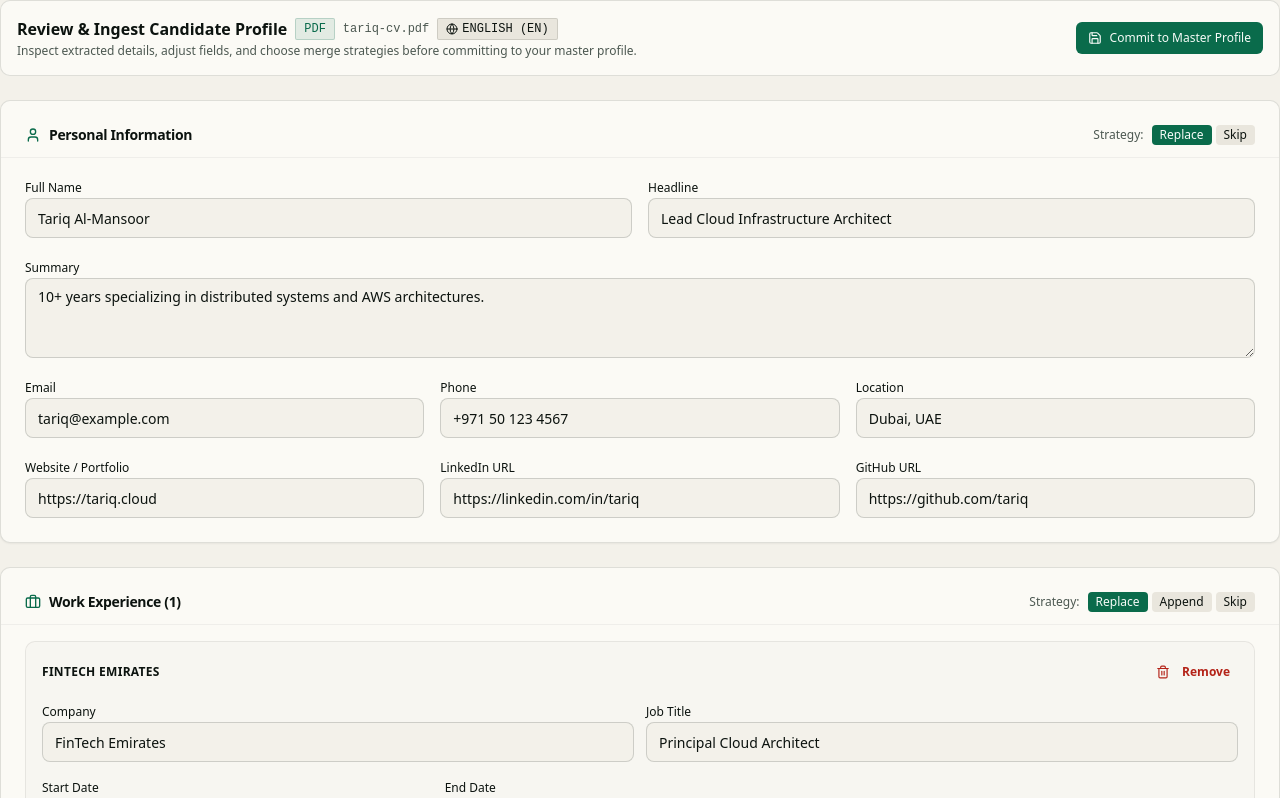
Test case: Resume Review Workbench (AC-4, AC-5) › submits commit action with chosen mergeConfig and updated payload (AC-4, AC-5)
The width and height of the screenshot is (1280, 798).
// Trigger commit
Click the button with test id "commit-profile-button": (1169, 38) [1076,22,1263,54]
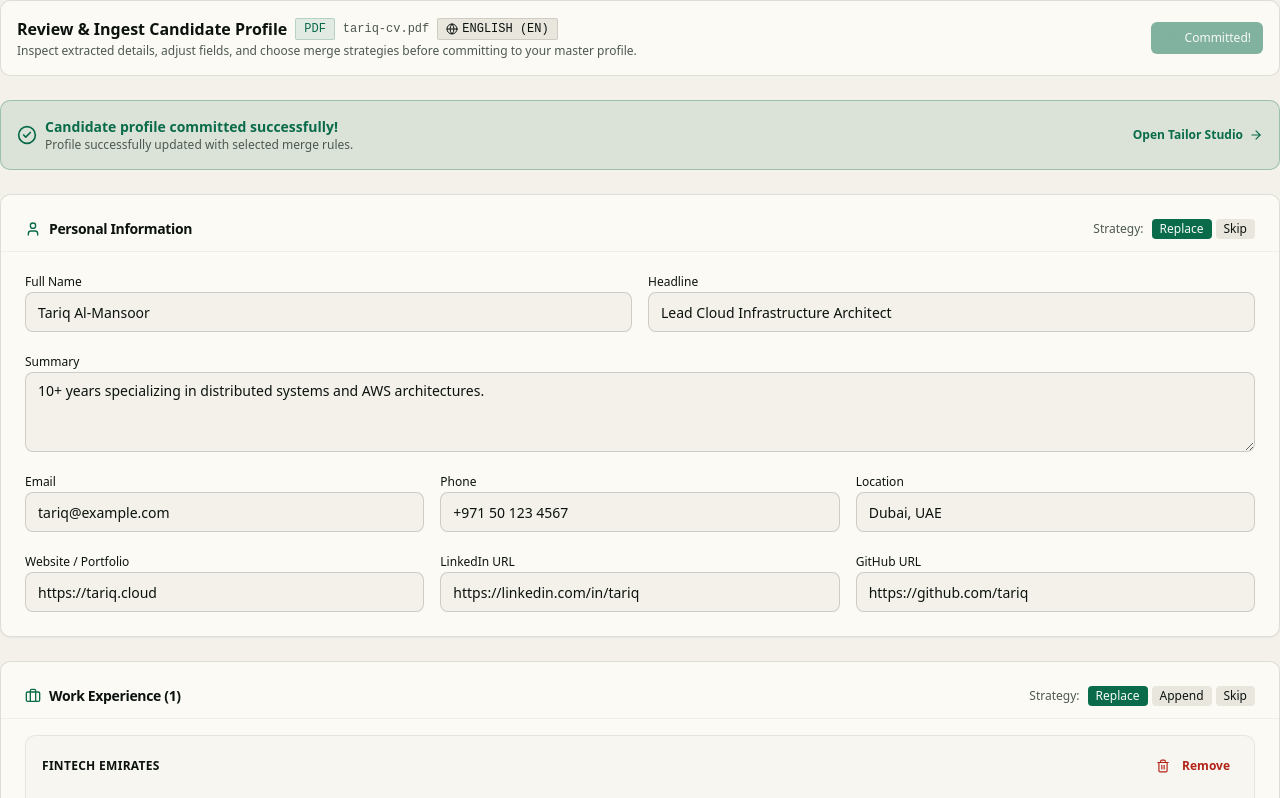
Now the element with test id "commit-success-banner" is shown, box [0,100,1279,170]
